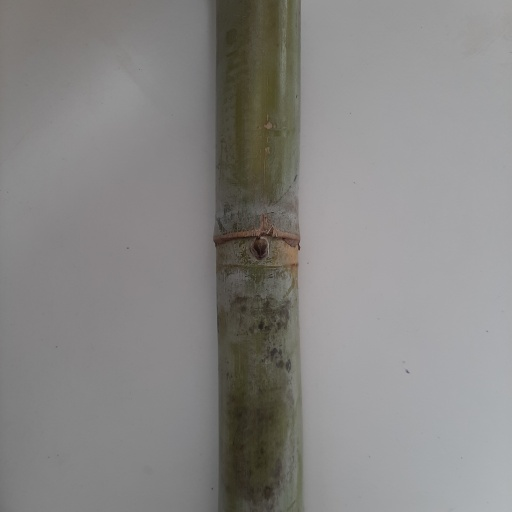Bud: (249, 236, 270, 261)
